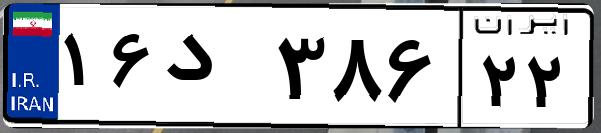1: (57, 26, 110, 100)
2: (475, 38, 525, 113), (525, 38, 570, 115)
3: (270, 28, 330, 110)
6: (385, 28, 445, 110), (110, 28, 158, 98)
8: (330, 28, 385, 110)
د: (158, 20, 270, 120)
